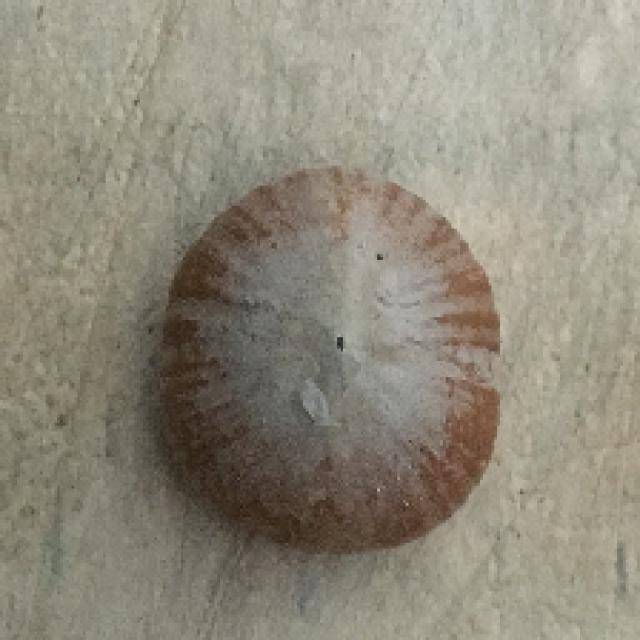QualityHazelnut: (149, 165, 505, 555)
